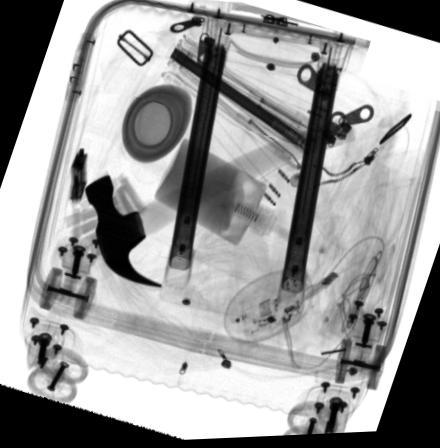Hammer: (83, 118, 356, 290)
